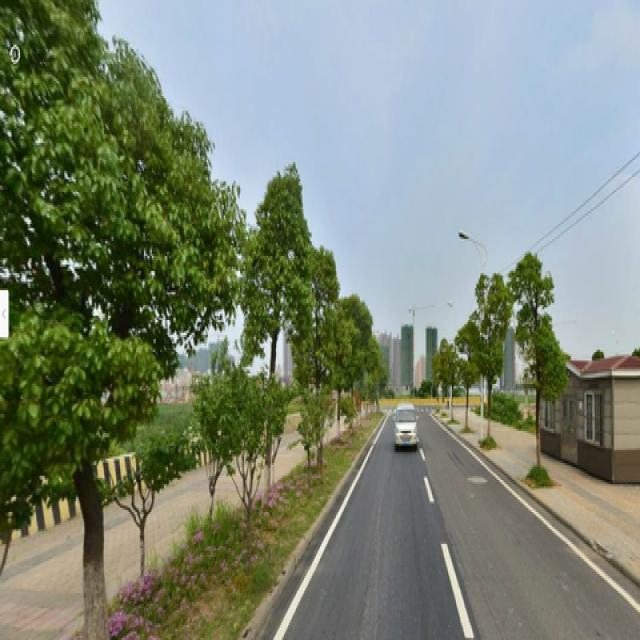cinn: (10, 36, 174, 636), (249, 158, 296, 525), (516, 254, 571, 486), (479, 258, 505, 437)
